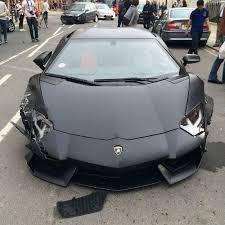Headlight-Damage: (16, 101, 56, 139), (179, 101, 217, 135)
